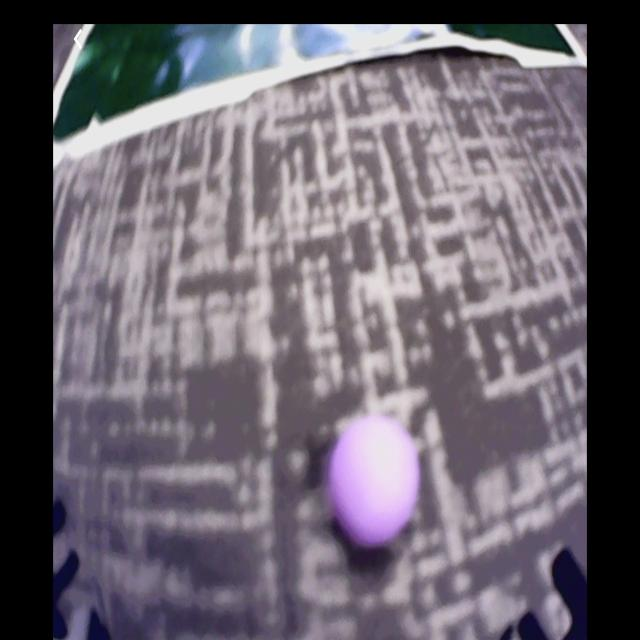ball: (333, 417, 420, 545)
